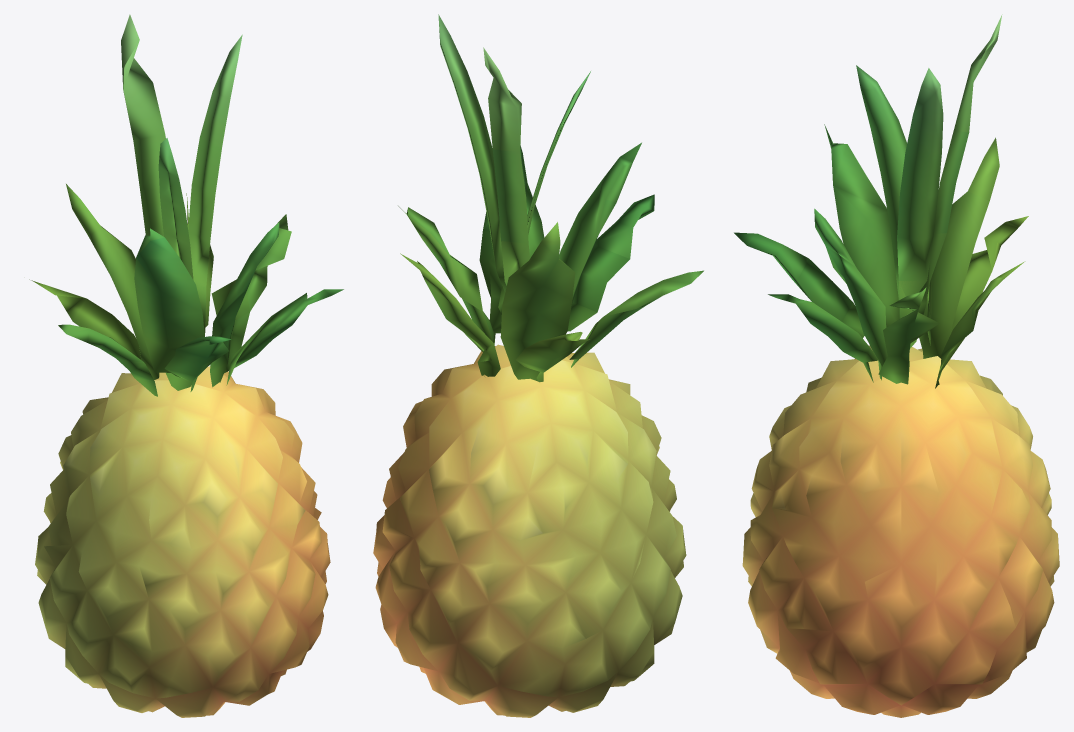
The picture shows the model from 3 angles, left to right: view 1: azimuth 30°, elevation 25°; view 2: azimuth 150°, elevation 25°; view 3: azimuth 270°, elevation 25°; orthographic projection. The views are drawn at different scales.
Visible parts, largest first — view 1: 7-7; view 2: 7-7; view 3: 7-7.
Part boxes in pixels (x1,y1,x2,y2): 7-7: (29, 14, 343, 717); 7-7: (373, 14, 703, 717); 7-7: (734, 14, 1059, 717).
Bounding box in the file's own units: 13.28 × 30.21 × 13.1.
